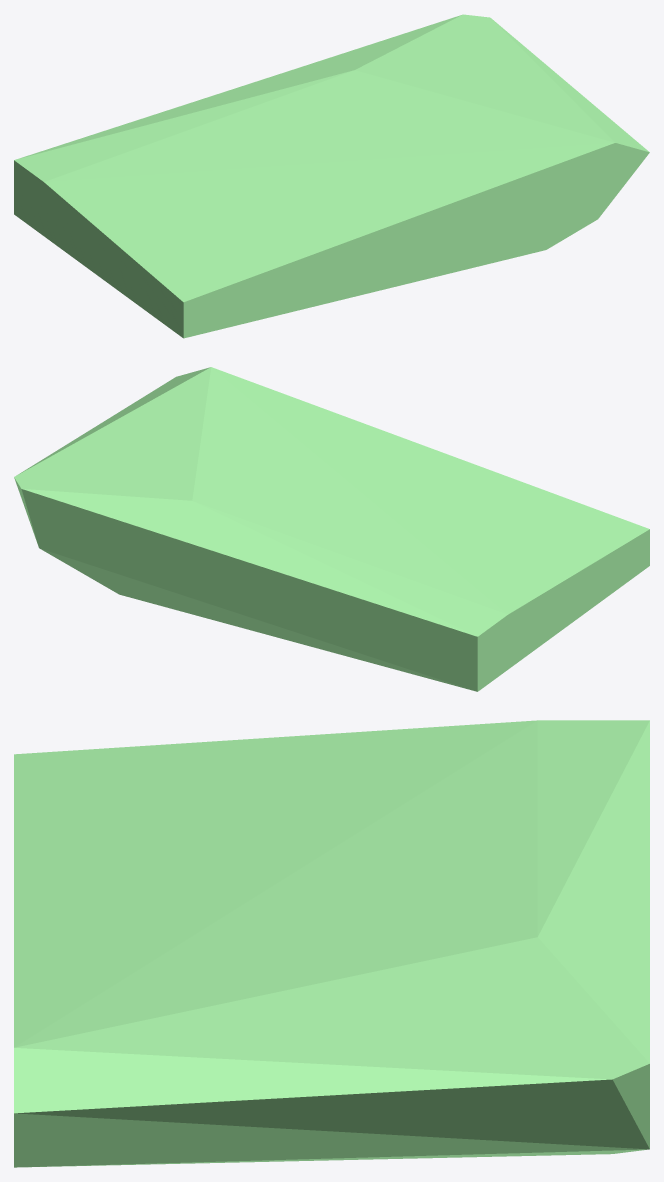
The model's file is rambler_robot_base_coll_31.dae.
The picture shows the model from 3 angles, top to bottom: view 1: azimuth 30°, elevation 25°; view 2: azimuth 150°, elevation 25°; view 3: azimuth 270°, elevation 25°; orthographic projection. The views are drawn at different scales.
Visible parts, largest first — view 1: Node_0x7fe0fc4d5380; view 2: Node_0x7fe0fc4d5380; view 3: Node_0x7fe0fc4d5380.
Boxes of the visible parts, box(x1,y1,x2,y2) form: Node_0x7fe0fc4d5380: box(14, 14, 649, 338); Node_0x7fe0fc4d5380: box(14, 367, 649, 691); Node_0x7fe0fc4d5380: box(14, 720, 649, 1167).
Bounding box in the file's own units: 0.3696 × 0.0684 × 0.2327.
